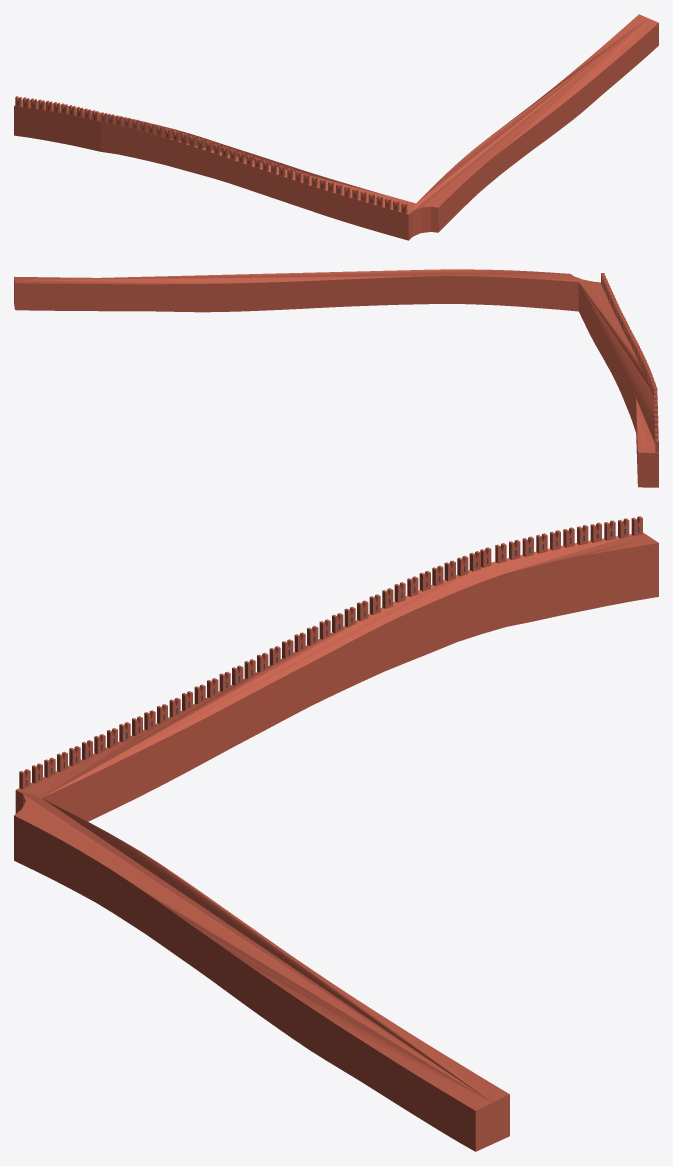
The model's file is moscow-kremlin-wall-borovitskaya-annunciation.glb.
The picture shows the model from 3 angles, top to bottom: view 1: azimuth 30°, elevation 25°; view 2: azimuth 150°, elevation 25°; view 3: azimuth 270°, elevation 25°; orthographic projection. The views are drawn at different scales.
Parts seen in each view (by area): view 1: Kremlin Wall, Borovitskaya Tower to Annunciation Tower; view 2: Kremlin Wall, Borovitskaya Tower to Annunciation Tower; view 3: Kremlin Wall, Borovitskaya Tower to Annunciation Tower.
Part boxes in pixels (bbox=[...]): Kremlin Wall, Borovitskaya Tower to Annunciation Tower: bbox=[14, 14, 658, 240]; Kremlin Wall, Borovitskaya Tower to Annunciation Tower: bbox=[14, 269, 658, 487]; Kremlin Wall, Borovitskaya Tower to Annunciation Tower: bbox=[14, 516, 658, 1151].
Bounding box in the file's own units: 157 × 18.73 × 81.36.
